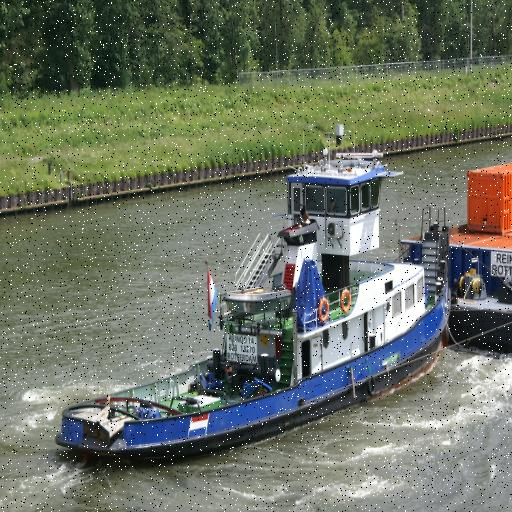tugboat: (51, 121, 455, 476)
